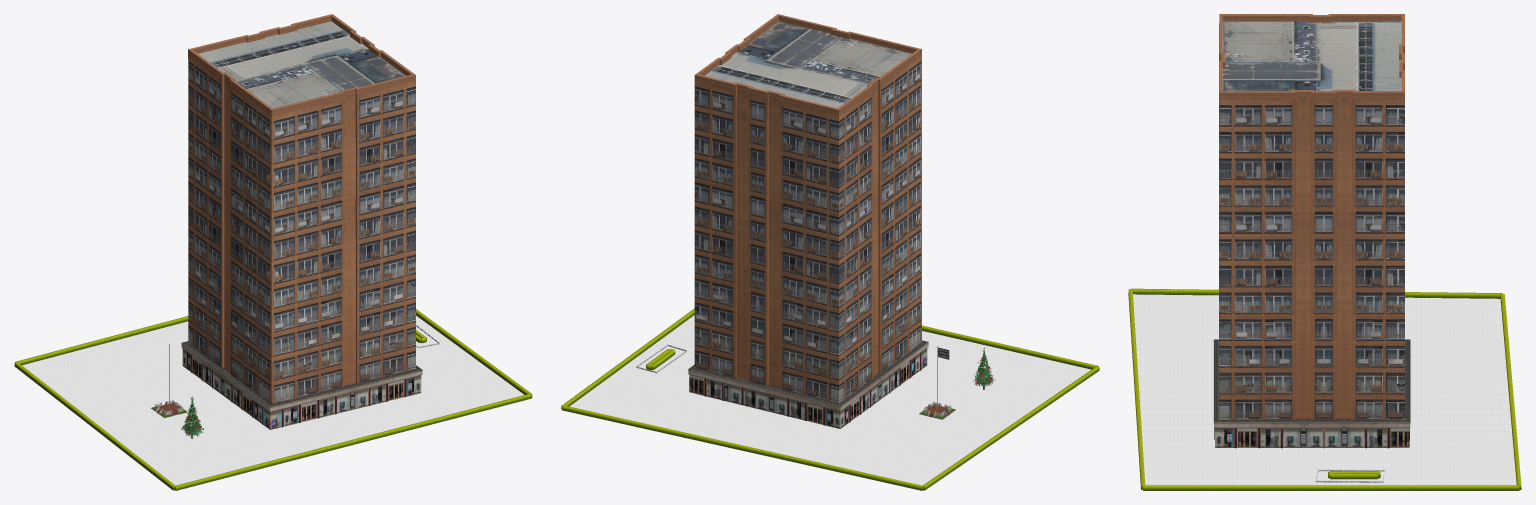
Rendered from Unity2GLTF.gltf.
3 views of the same model, side by side, from view 1: azimuth 30°, elevation 25°; view 2: azimuth 150°, elevation 25°; view 3: azimuth 270°, elevation 25° (orthographic). The views are drawn at different scales.
Parts seen in each view (by area): view 1: node_CombinePlacement_-79838, node_CombineFloor_-79858, node_CombinePrefabWall_-79826; view 2: node_CombinePlacement_-79838, node_CombineFloor_-79858, node_CombinePrefabWall_-79826; view 3: node_CombinePlacement_-79838, node_CombineFloor_-79858, node_CombinePrefabWall_-79826.
Part boxes in pixels (<box>): node_CombinePlacement_-79838: <box>151,14,422,429</box>; node_CombineFloor_-79858: <box>22,316,523,485</box>; node_CombinePrefabWall_-79826: <box>14,309,532,490</box>; node_CombinePlacement_-79838: <box>687,14,955,428</box>; node_CombineFloor_-79858: <box>570,315,1090,485</box>; node_CombinePrefabWall_-79826: <box>561,308,1099,490</box>; node_CombinePlacement_-79838: <box>1213,14,1410,448</box>; node_CombineFloor_-79858: <box>1133,294,1516,485</box>; node_CombinePrefabWall_-79826: <box>1128,288,1521,490</box>.
Size of the model in its own units: 67.38 by 56 by 56.44.
Materials: 24 (24 with a texture image).
